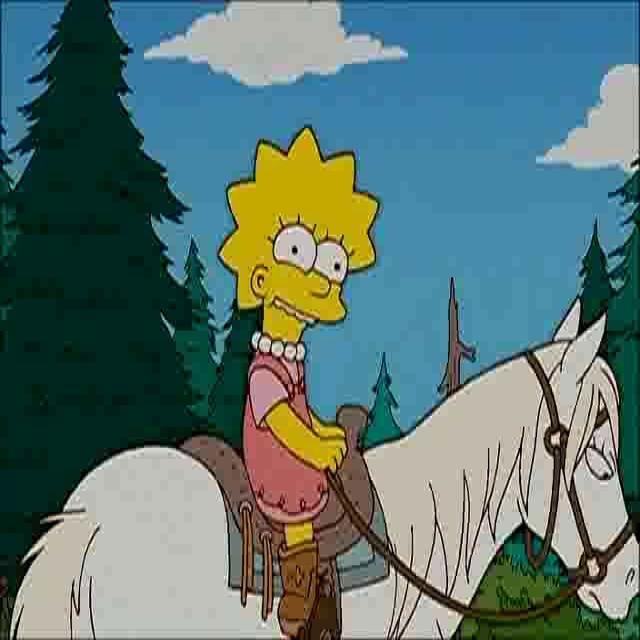Lisa Simpson: (218, 122, 382, 361)
